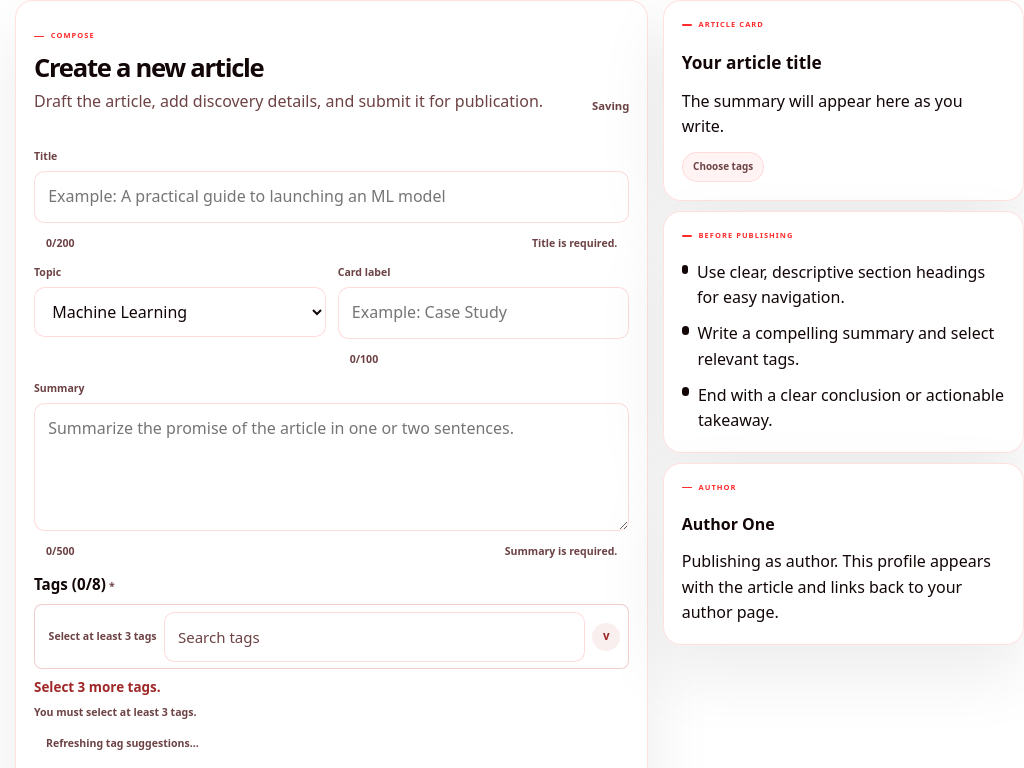
Test: CreateArticlePage › shows validation feedback instead of publishing invalid content
Type "bad" into the field labelled "Title 0/200 Title is required.".
click(332, 197); type("bad")  # box x1=34 y1=171 x2=629 y2=223
(page scrolled)
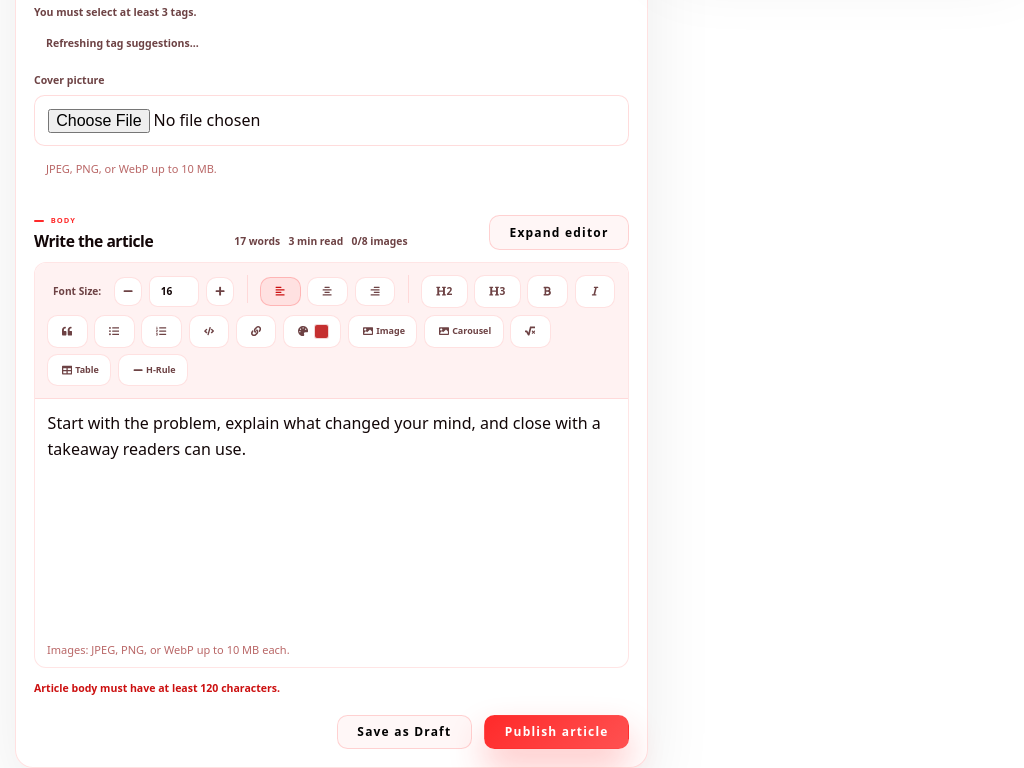
Click the button "Publish article".
click(557, 732)  # box x1=484 y1=715 x2=629 y2=749
(page scrolled)
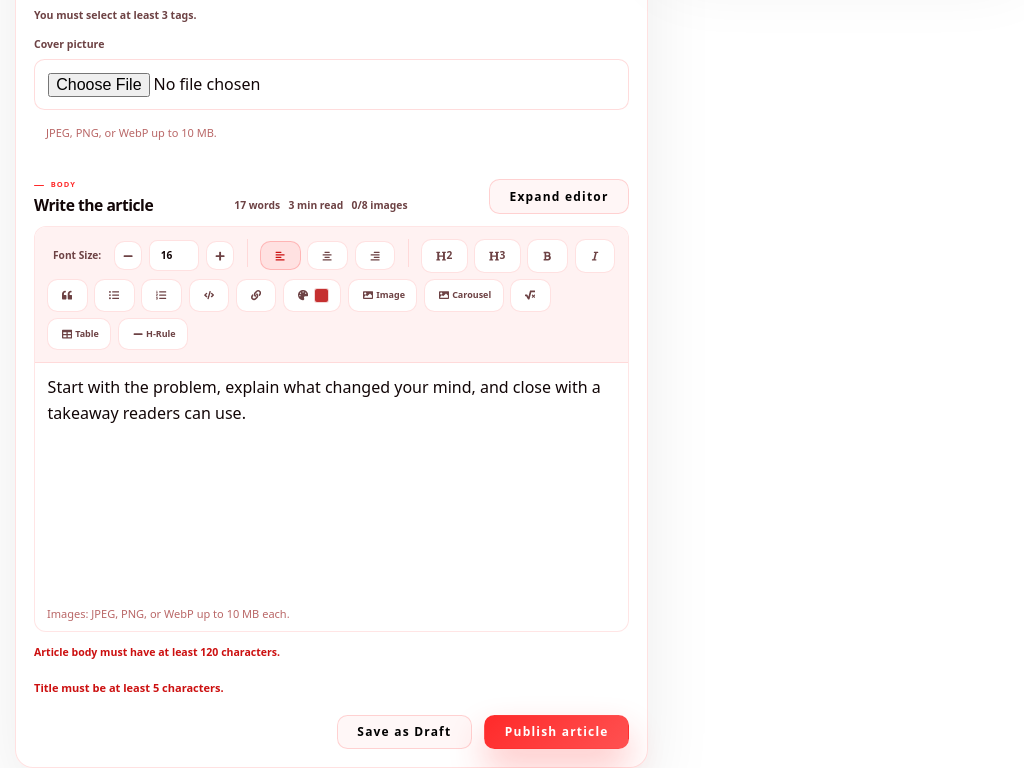
Now the text "Title must be at least 5 characters." is shown, box x1=34 y1=680 x2=224 y2=695
